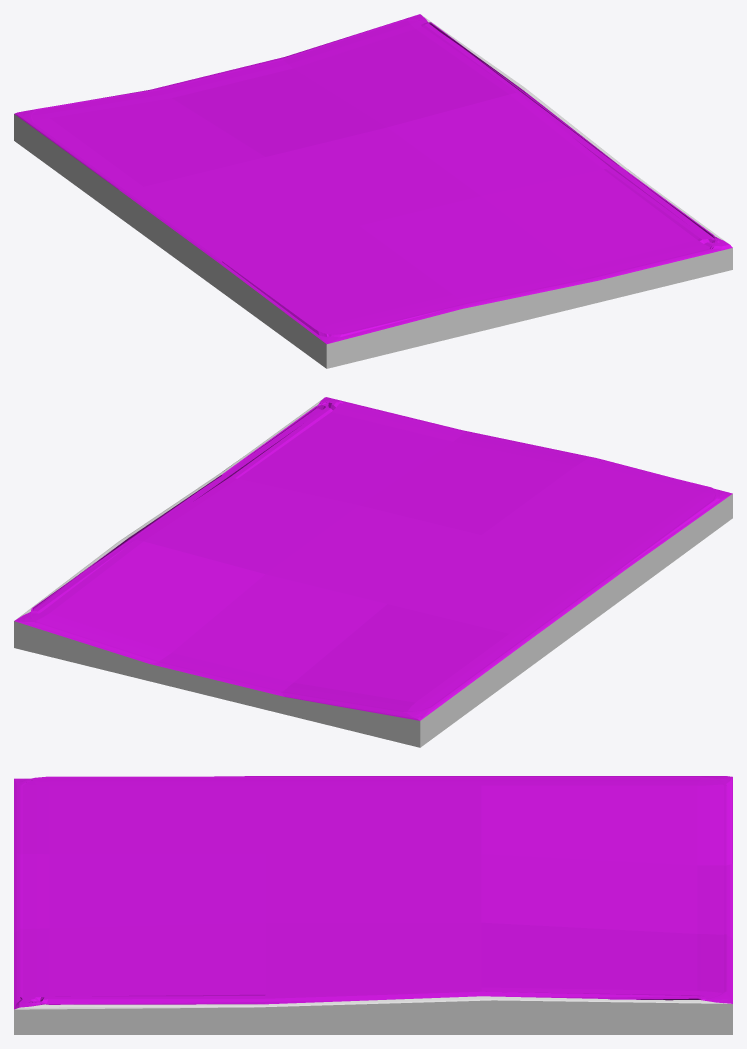
File: BANQUETA_MODELADA.fbx
3 renders of one model, top to bottom at view 1: azimuth 30°, elevation 25°; view 2: azimuth 150°, elevation 25°; view 3: azimuth 270°, elevation 25°, orthographic. The views are drawn at different scales.
Parts seen in each view (by area): view 1: Cube; view 2: Cube; view 3: Cube.
Part boxes in pixels (x1,y1,x2,y2): Cube: (14,14,732,368); Cube: (14,397,732,747); Cube: (14,776,732,1034).
Bounding box in the file's own units: 6000 × 454 × 8000.
